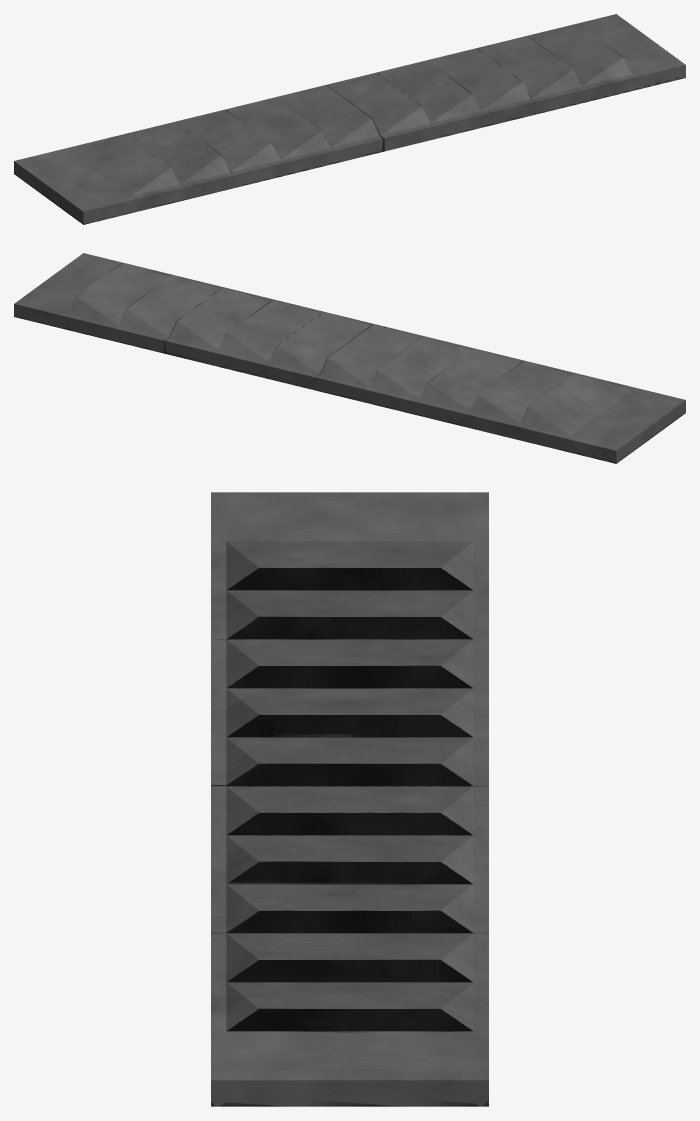
The model's file is vent.fbx.
3 views of the same model, one above another, from view 1: azimuth 30°, elevation 25°; view 2: azimuth 150°, elevation 25°; view 3: azimuth 270°, elevation 25° (orthographic). The views are drawn at different scales.
Parts seen in each view (by area): view 1: Vent; view 2: Vent; view 3: Vent.
Boxes of the visible parts, box(x1,y1,x2,y2) form: Vent: box(14, 14, 685, 224); Vent: box(14, 253, 685, 463); Vent: box(211, 492, 488, 1106).
Size of the model in its own units: 0.4 by 2 by 0.0772.
